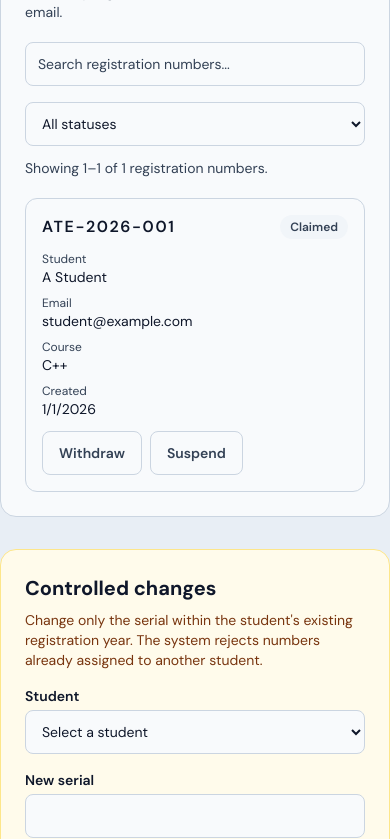
AcademyAdminRegistrations › opens the suspension form from the registration directory
(page scrolled)
Click the button "Suspend". click: (196,453)
box: [150,431,243,475]
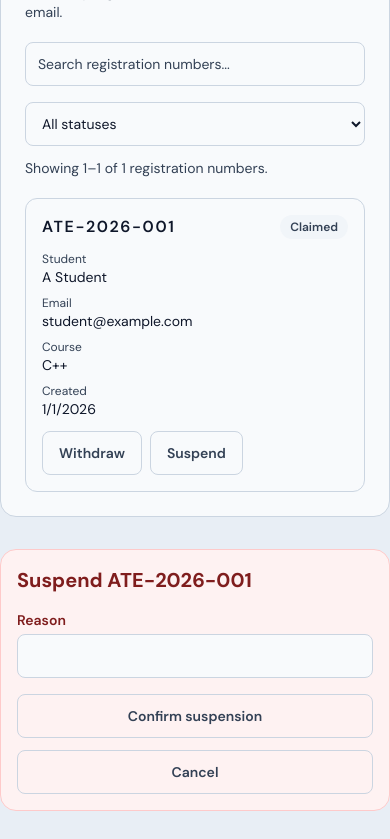
Result: the heading "Suspend ATE-2026-001" is shown at [17,567,252,593]
Result: the field labelled "Reason" is shown at [17,634,373,678]
